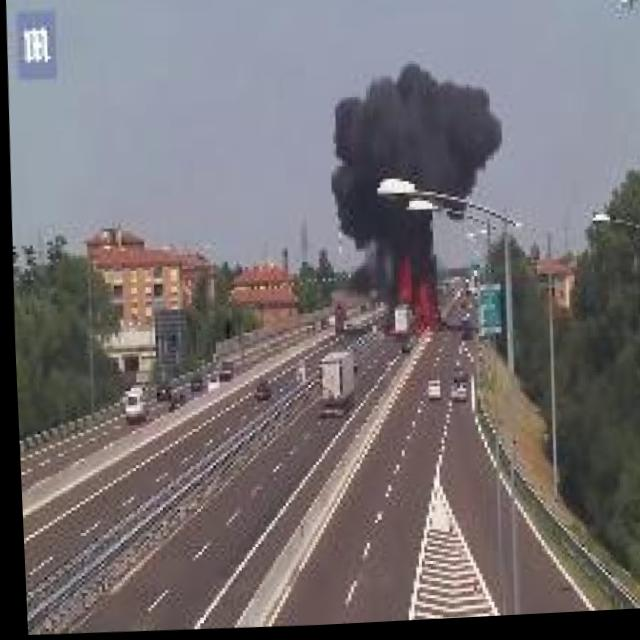fire: (389, 258, 439, 338)
